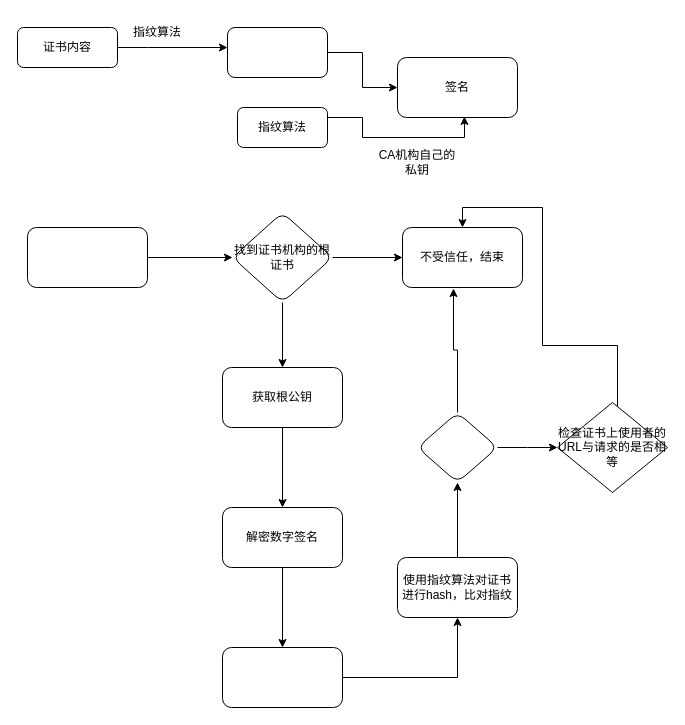
Some shapes in this 685 by 725 pixel diagram are drawn without their labels. Each missing label, with the centre of its shape:
"得到指纹与指纹算法" goes at (x=282, y=677).
"指纹" goes at (x=277, y=52).
"是否相等" goes at (x=457, y=447).
"浏览器" goes at (x=87, y=257).
